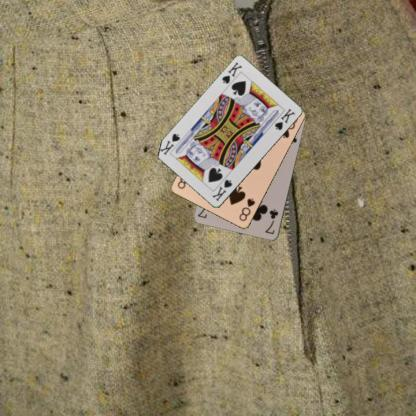7c: (263, 207, 280, 236)
8s: (236, 196, 256, 223)
Ks: (209, 177, 234, 203), (219, 60, 244, 86)
